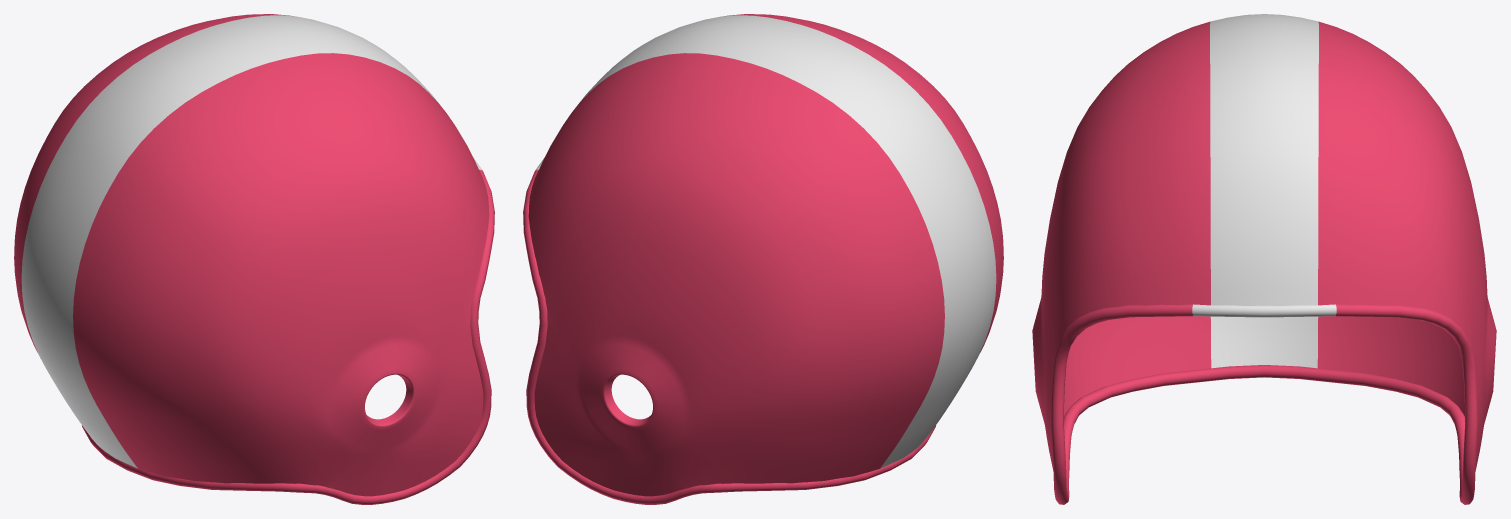
File: Casco Rojo.fbx
The picture shows the model from 3 angles, left to right: view 1: azimuth 30°, elevation 25°; view 2: azimuth 150°, elevation 25°; view 3: azimuth 270°, elevation 25°; orthographic projection. The views are drawn at different scales.
Parts seen in each view (by area): view 1: helmet.001; view 2: helmet.001; view 3: helmet.001.
Boxes of the visible parts, bbox=[...] form: helmet.001: bbox=[14, 14, 494, 504]; helmet.001: bbox=[523, 14, 1003, 504]; helmet.001: bbox=[1032, 14, 1496, 504].
Size of the model in its own units: 62225 by 58062 by 57303.
